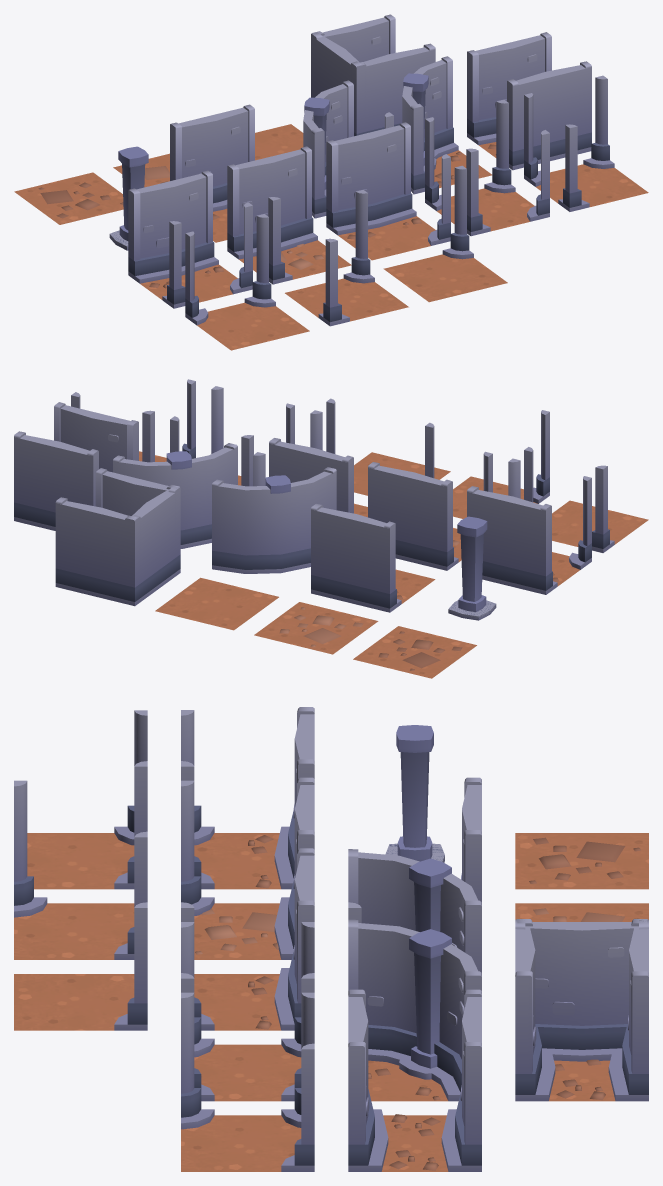
File: kenney_modular_dungeon_8bit.glb
3 renders of one model, top to bottom at view 1: azimuth 30°, elevation 25°; view 2: azimuth 150°, elevation 25°; view 3: azimuth 270°, elevation 25°, orthographic. The views are drawn at different scales.
Visible parts, largest first — view 1: tile_17, tile_21, tile_29, tile_23, tile_1, tile_85, tile_87, tile_31, tile_95, tile_119, tile_7, tile_127 (+5 smaller); view 2: tile_1, tile_5, tile_17, tile_21, tile_31, tile_23, tile_7, tile_95, tile_29, tile_255-w3, tile_255-v1-w2, tile_255-v2-w6 (+5 smaller); view 3: tile_1, tile_7, tile_17, tile_87, tile_119, tile_5, tile_23, tile_85, tile_127, tile_21, tile_29, tile_95 (+4 smaller).
Part boxes in pixels (x1,y1,x2,y2): tile_17: [467, 32, 591, 170]; tile_21: [128, 170, 252, 308]; tile_29: [326, 122, 450, 260]; tile_23: [227, 146, 351, 284]; tile_1: [311, 14, 435, 136]; tile_85: [425, 99, 549, 236]; tile_87: [524, 75, 648, 211]; tile_31: [170, 104, 254, 242]; tile_95: [185, 214, 309, 350]; tile_119: [285, 190, 408, 326]; tile_7: [402, 56, 491, 194]; tile_127: [383, 165, 507, 302]; tile_1: [55, 468, 180, 606]; tile_5: [212, 452, 336, 573]; tile_17: [14, 402, 138, 530]; tile_21: [467, 458, 591, 594]; tile_31: [311, 504, 435, 612]; tile_23: [368, 451, 492, 570]; tile_7: [113, 443, 237, 548]; tile_95: [524, 447, 648, 552]; tile_29: [269, 410, 367, 517]; tile_255-w3: [353, 626, 476, 678]; tile_255-v1-w2: [254, 602, 378, 654]; tile_255-v2-w6: [155, 577, 278, 630]; tile_1: [515, 919, 648, 1101]; tile_7: [348, 919, 481, 1101]; tile_17: [348, 989, 481, 1171]; tile_87: [181, 992, 314, 1171]; tile_119: [14, 780, 147, 959]; tile_5: [348, 849, 481, 975]; tile_23: [181, 777, 314, 959]; tile_85: [181, 922, 314, 1101]; tile_127: [14, 902, 147, 1030]; tile_21: [181, 707, 314, 889]; tile_29: [181, 848, 314, 1030]; tile_95: [27, 710, 147, 889].
Size of the model in its own units: 24.01 by 4.23 by 19.
12 materials, 12 textured.
